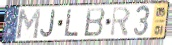3: (133, 4, 151, 39)
B: (83, 6, 107, 38)
J: (39, 9, 56, 39)
L: (64, 8, 80, 38)
M: (16, 7, 42, 40)
R: (109, 6, 132, 39)
